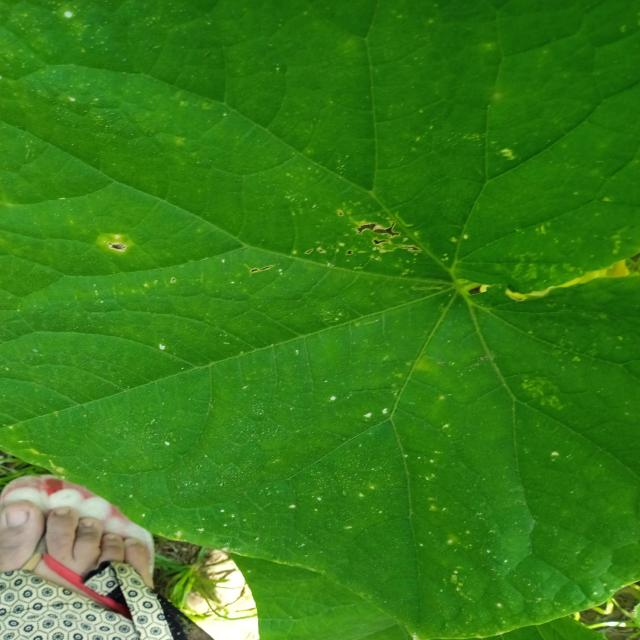cucumber_healthy: (2, 0, 640, 482)
